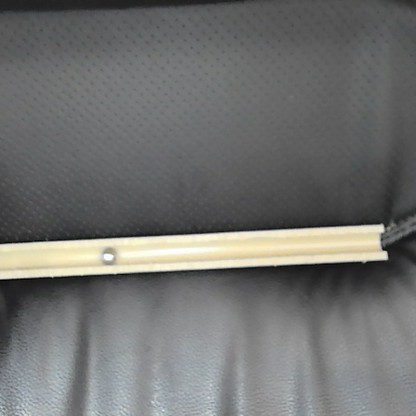ironball: (97, 244, 119, 269)
